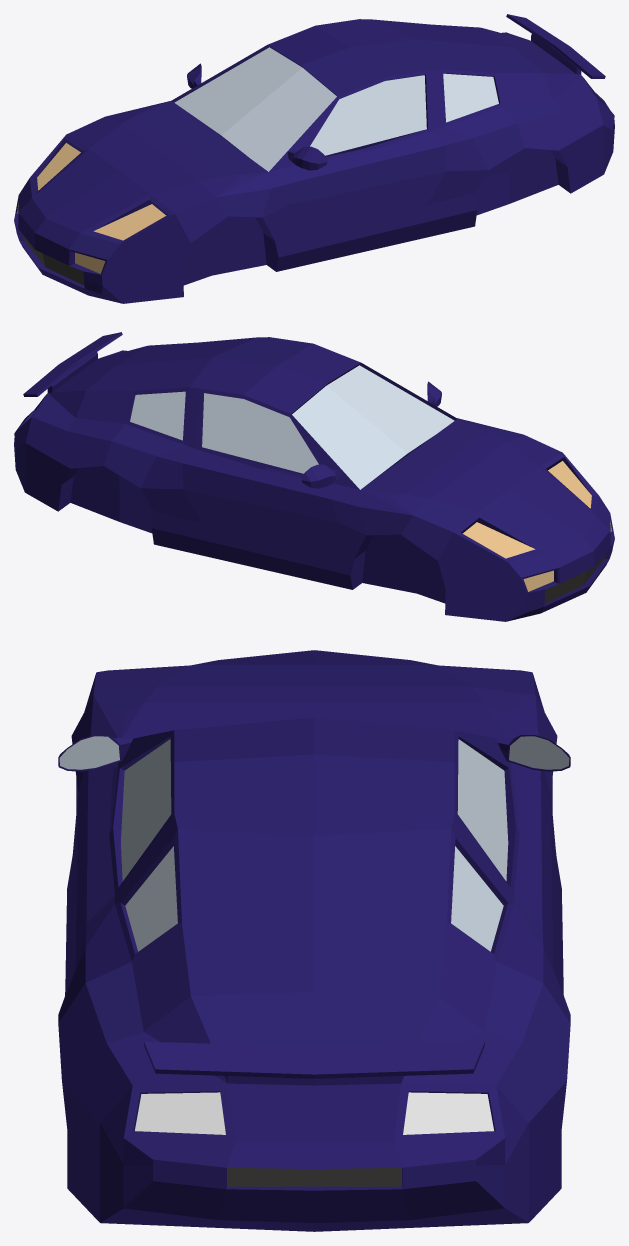
File: car1.fbx
3 renders of one model, top to bottom at view 1: azimuth 30°, elevation 25°; view 2: azimuth 150°, elevation 25°; view 3: azimuth 270°, elevation 25°, orthographic. The views are drawn at different scales.
Parts seen in each view (by area): view 1: Cube; view 2: Cube; view 3: Cube.
Part boxes in pixels (x1,y1,x2,y2): Cube: (14, 14, 614, 303); Cube: (14, 332, 614, 621); Cube: (58, 650, 570, 1231).
Bounding box in the file's own units: 797 × 211 × 322.
